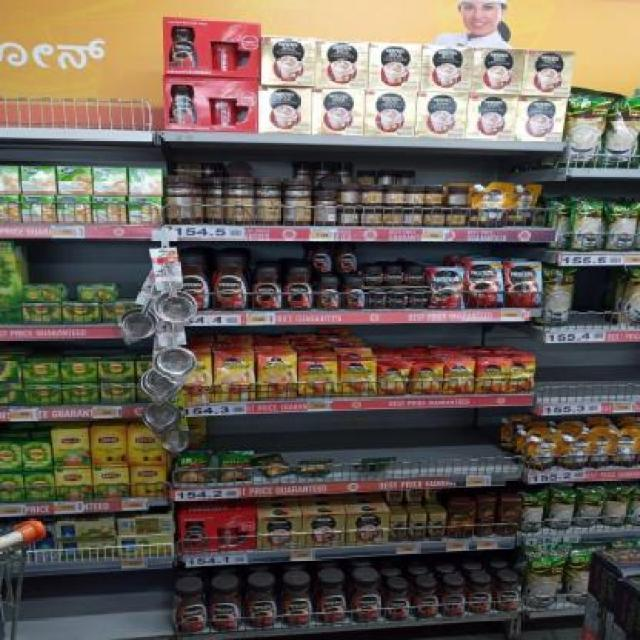Coffee: (212, 253, 248, 311), (216, 354, 256, 401), (465, 261, 504, 308), (182, 253, 211, 313), (504, 262, 542, 306), (258, 354, 296, 398), (315, 578, 351, 622), (175, 587, 211, 631), (245, 583, 279, 626), (210, 586, 243, 630), (298, 359, 337, 395), (431, 267, 464, 309), (282, 582, 314, 625), (283, 268, 315, 310), (352, 577, 384, 619), (339, 359, 376, 395), (252, 268, 282, 310), (387, 580, 413, 620), (466, 576, 494, 613), (414, 579, 441, 617), (477, 360, 506, 393), (440, 578, 466, 614), (378, 363, 407, 395), (445, 361, 473, 393), (494, 576, 520, 610), (509, 359, 535, 392), (415, 364, 443, 394), (342, 278, 368, 308), (318, 278, 342, 308), (336, 246, 359, 270), (313, 246, 333, 272), (368, 288, 388, 310), (410, 287, 429, 309), (411, 513, 427, 539), (392, 515, 408, 541), (390, 288, 408, 310), (386, 266, 406, 285), (430, 513, 444, 539), (407, 266, 426, 285), (366, 267, 384, 285)
